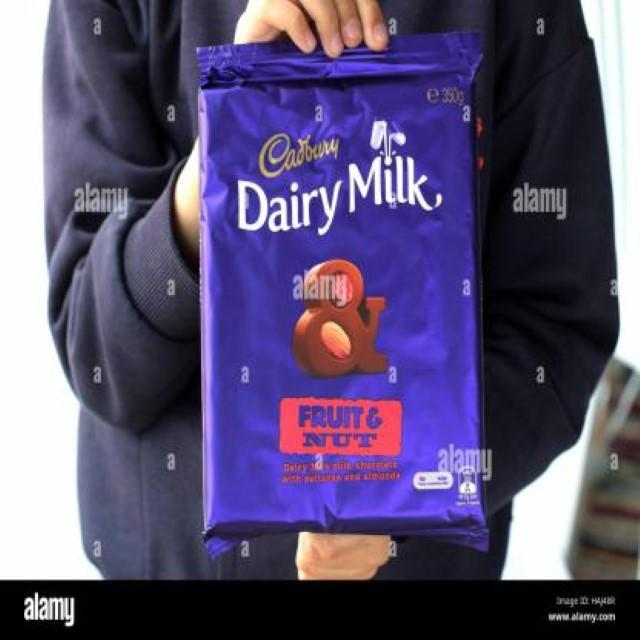cadbury_chocolate: (197, 48, 480, 532)
